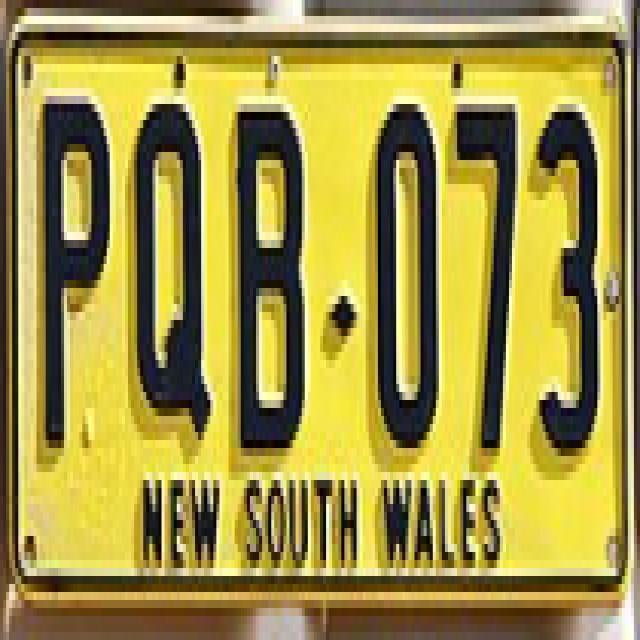0: (371, 94, 452, 458)
3: (532, 79, 608, 474)
7: (452, 85, 524, 455)
B: (228, 72, 312, 466)
P: (34, 64, 112, 462)
Q: (126, 70, 220, 452)
